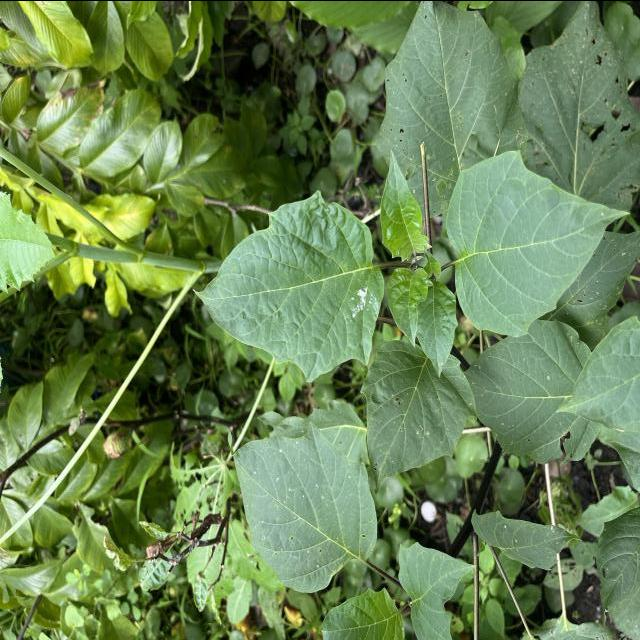Datura metal linn: (189, 185, 388, 384), (443, 146, 632, 338), (222, 418, 382, 596), (356, 334, 480, 498), (377, 146, 435, 262)
